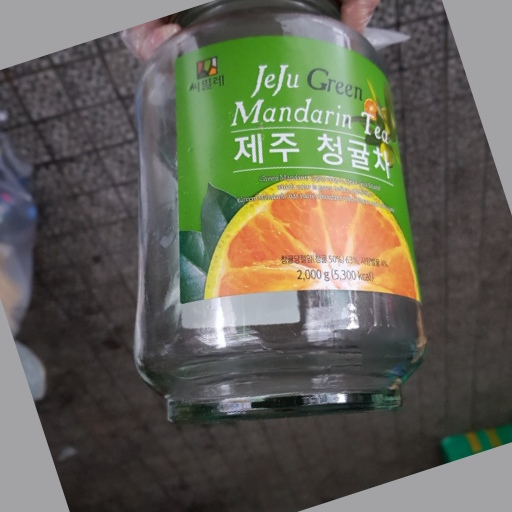Glass_5: (129, 13, 425, 423)
